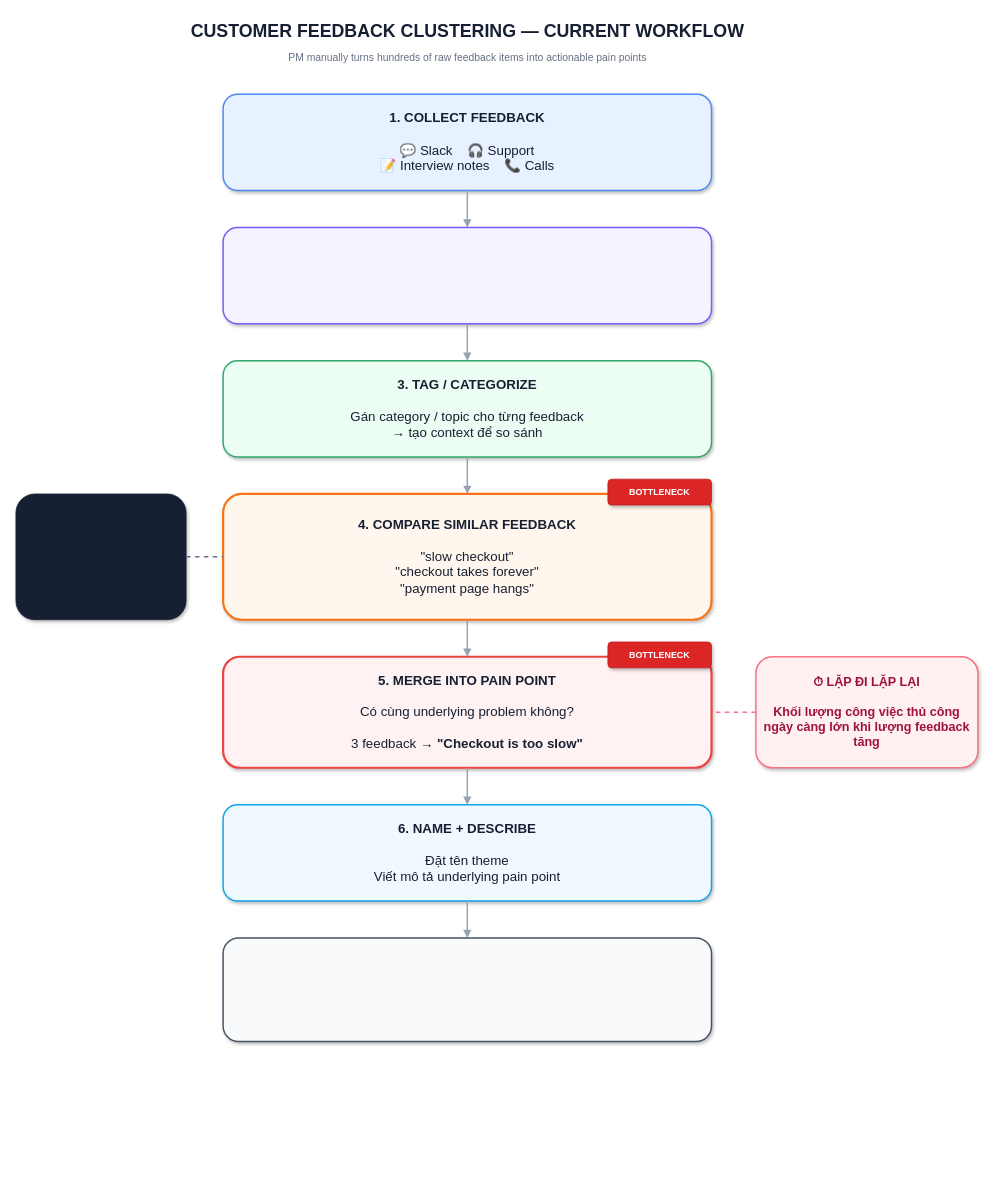
The diagram is 996 pixels wide and 1181 high, and some of its shapes have lost their labels. Here are the shapes that lost their labels. From the top down, the centre of each, then its label:
At [467,276]: "2. READ + UNDERSTAND PM đọc từng feedback để hiểu context + intent".
At [101,557]: "Số lượng feedbackhănk lớn khiến việc đọc hiểu và so sánh khó khăn".
At [467,990]: "7. REVIEW 🔀 Merge ✂ Split ✏ Rename PM kiểm tra lại toàn bộ themes".
